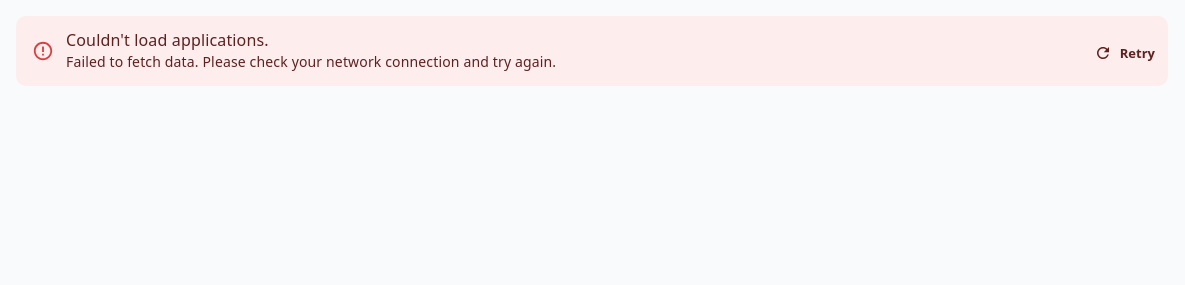
Test case: JobApplicationList › list states › retries after a failed load
Click the button "Retry": (1125, 53) [1091, 38, 1160, 68]
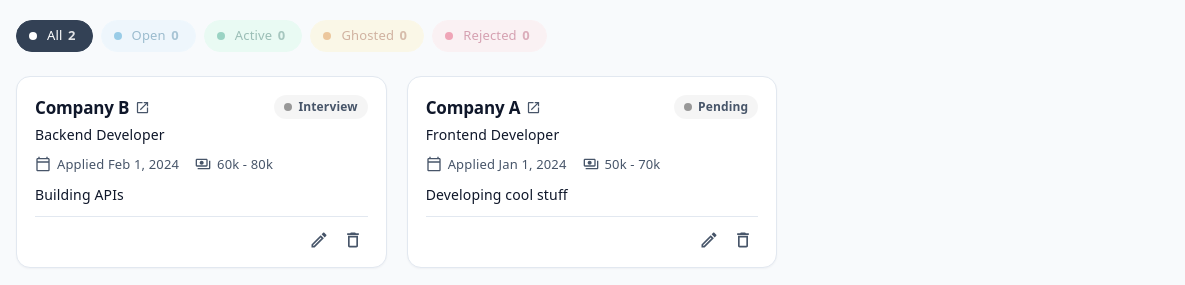
Result: the link "Company A" is shown at [426, 95, 541, 120]
Result: the text "Failed to fetch data" is gone
